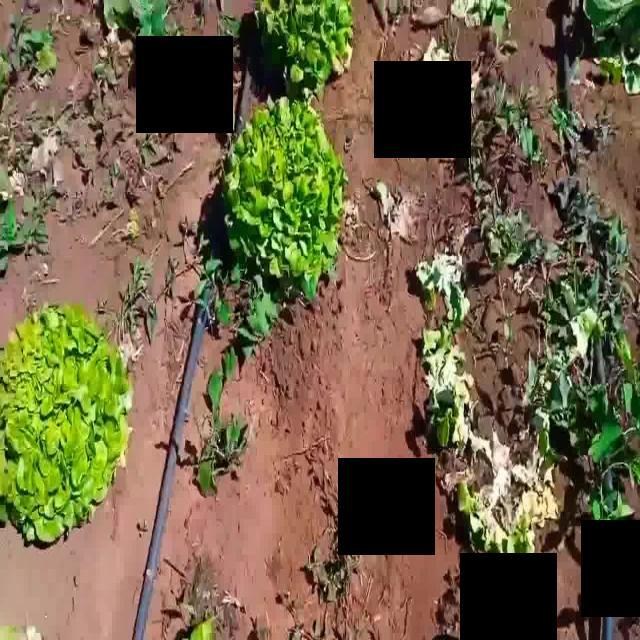Lettuce: (0, 297, 138, 549), (213, 95, 346, 291), (251, 0, 356, 94)
